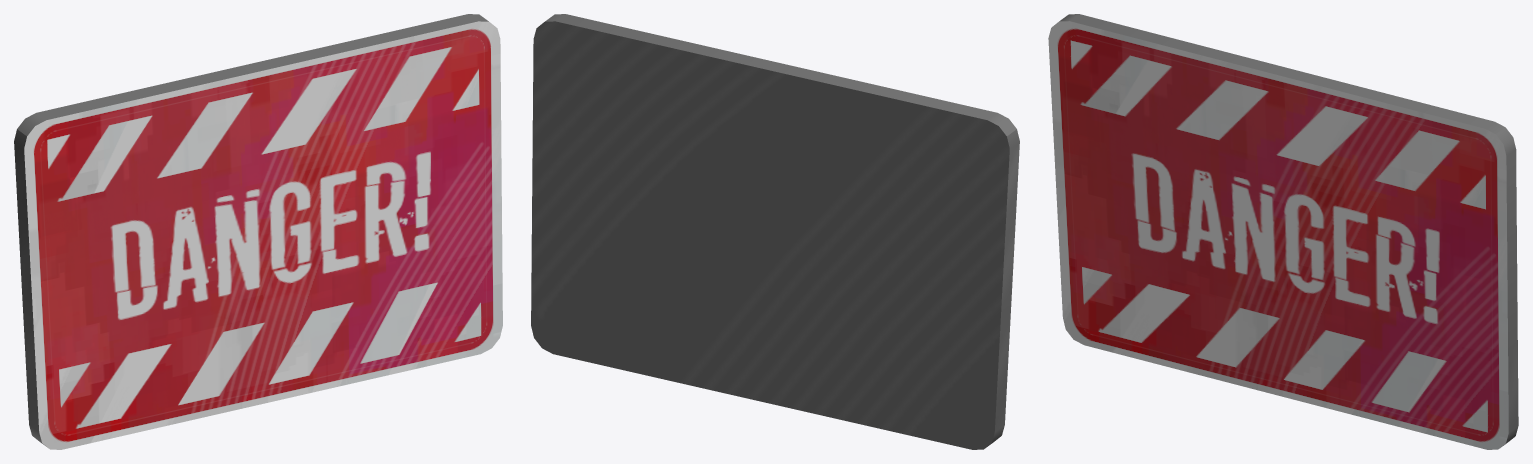
The model's file is SM_Panneau_02.fbx.
The picture shows the model from 3 angles, left to right: view 1: azimuth 30°, elevation 25°; view 2: azimuth 150°, elevation 25°; view 3: azimuth 330°, elevation 25°; orthographic projection. The views are drawn at different scales.
Parts seen in each view (by area): view 1: SM_Panneau_02; view 2: SM_Panneau_02; view 3: SM_Panneau_02.
Part boxes in pixels (left/top/right/bottom): SM_Panneau_02: left=14, top=14, right=502, bottom=449; SM_Panneau_02: left=531, top=14, right=1019, bottom=449; SM_Panneau_02: left=1048, top=14, right=1518, bottom=449.
Bounding box in the file's own units: 0.9193 × 0.6236 × 0.0337.
